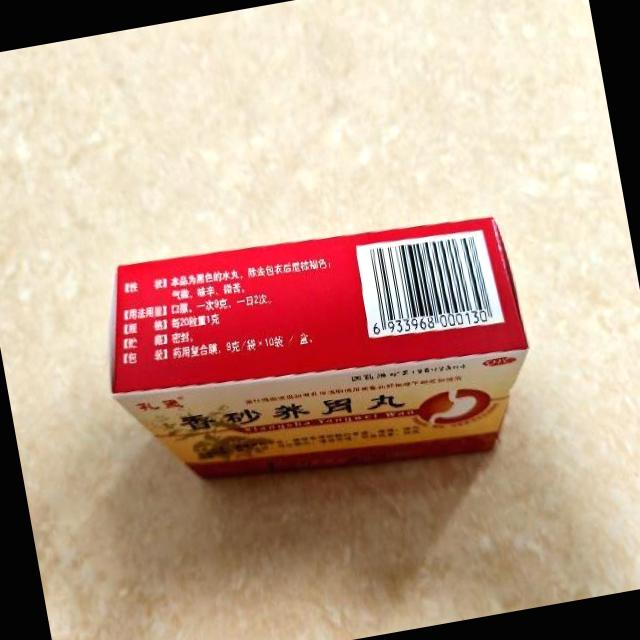box: (87, 195, 545, 516)
